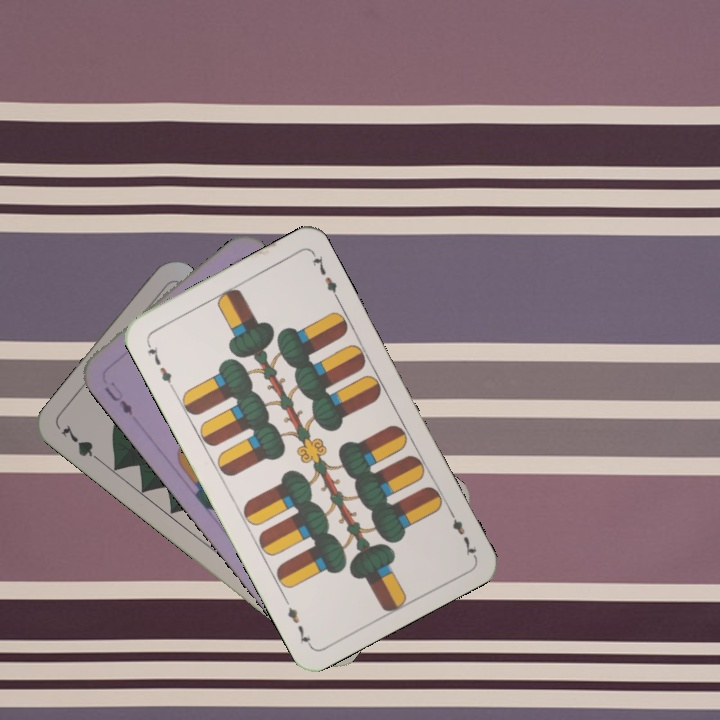E7: (142, 337, 177, 392), (444, 505, 479, 559)
EU: (100, 377, 136, 418)
G7: (57, 420, 107, 467)
